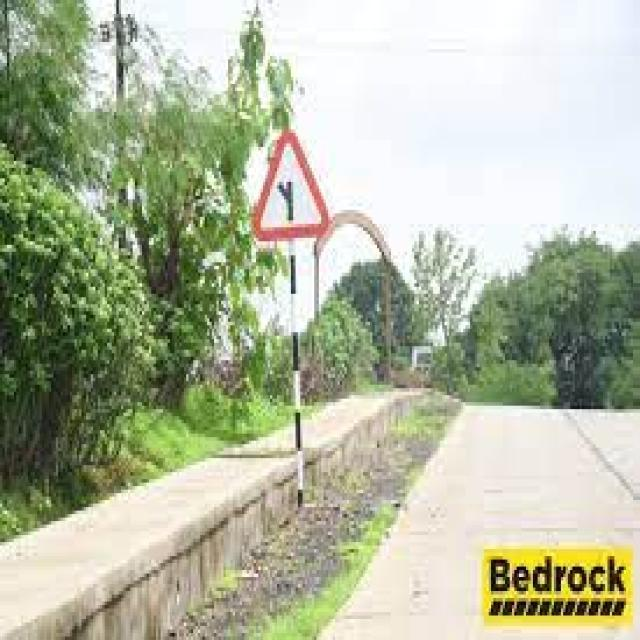y intersection: (255, 128, 332, 238)
